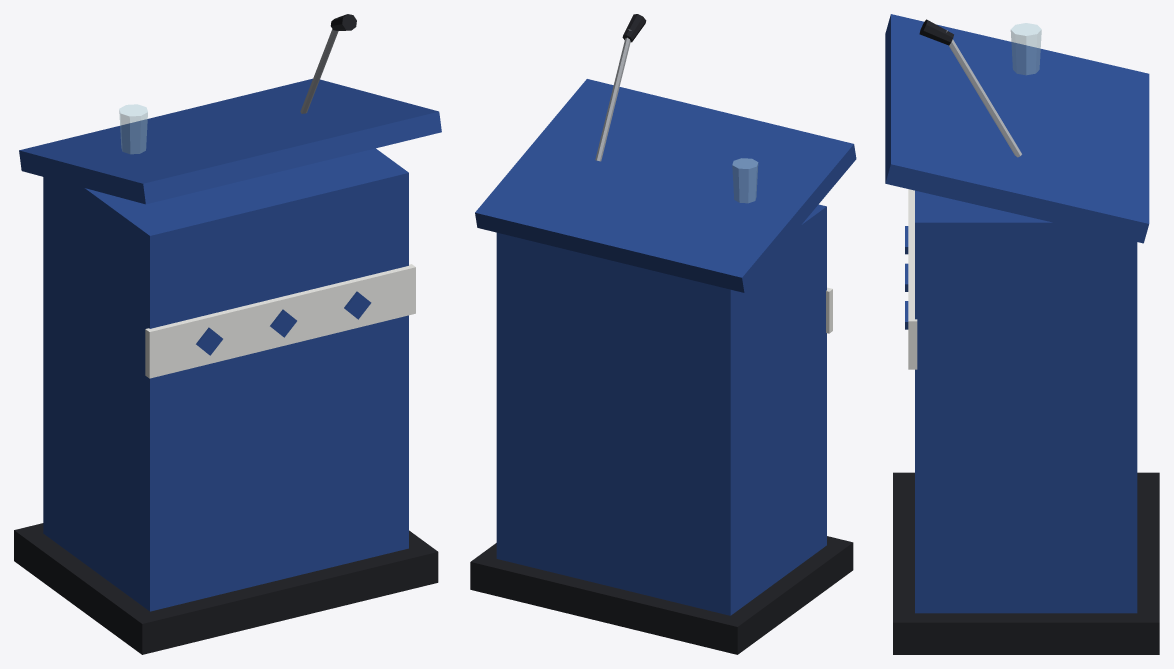
File: tv_lectern.glb
The picture shows the model from 3 angles, left to right: view 1: azimuth 30°, elevation 25°; view 2: azimuth 150°, elevation 25°; view 3: azimuth 270°, elevation 25°; orthographic projection. The views are drawn at different scales.
Parts seen in each view (by area): view 1: body_tv_blue, body_tv_black, stripe_tv_white, glass_tv_glass, stripe_tv_blue, mic_tv_metal; view 2: body_tv_blue, body_tv_black, glass_tv_glass, mic_tv_metal; view 3: body_tv_blue, body_tv_black, glass_tv_glass, stripe_tv_white, mic_tv_metal, mic_tv_black.
Part boxes in pixels (x1=…): body_tv_blue: x1=19, y1=78, x2=441, y2=611; body_tv_black: x1=14, y1=523, x2=438, y2=654; stripe_tv_white: x1=145, y1=264, x2=415, y2=378; glass_tv_glass: x1=119, y1=104, x2=147, y2=154; stripe_tv_blue: x1=196, y1=291, x2=371, y2=355; mic_tv_metal: x1=300, y1=17, x2=338, y2=113; body_tv_blue: x1=475, y1=79, x2=856, y2=615; body_tv_black: x1=470, y1=536, x2=853, y2=654; glass_tv_glass: x1=732, y1=158, x2=758, y2=203; mic_tv_metal: x1=595, y1=29, x2=631, y2=161; body_tv_blue: x1=885, y1=14, x2=1149, y2=613; body_tv_black: x1=893, y1=472, x2=1159, y2=654; glass_tv_glass: x1=1010, y1=23, x2=1041, y2=75; stripe_tv_white: x1=908, y1=189, x2=917, y2=369; mic_tv_metal: x1=946, y1=30, x2=1021, y2=157; mic_tv_black: x1=919, y1=19, x2=953, y2=45.
Size of the model in its own units: 0.8 by 1.48 by 0.6169.
